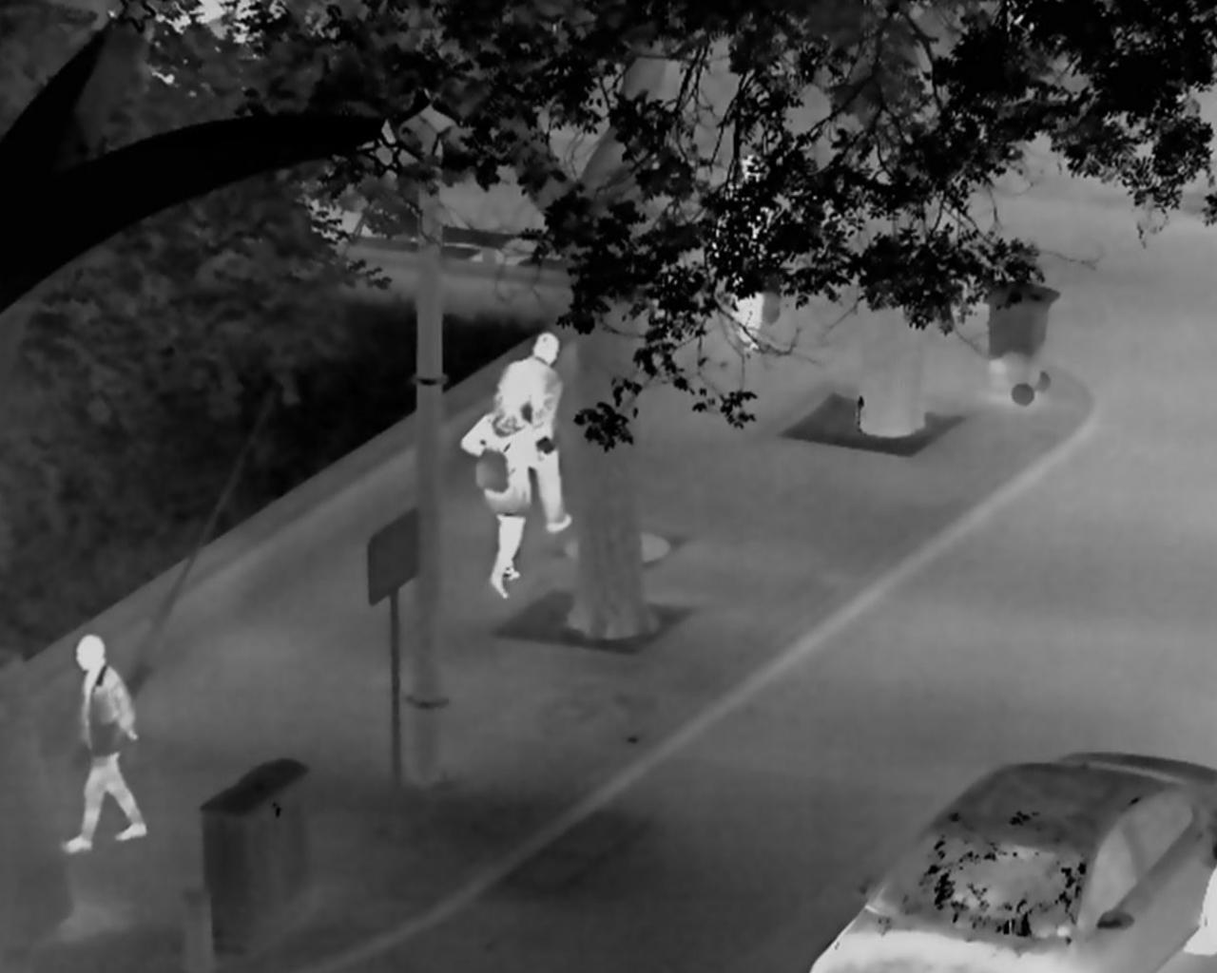person: (60, 633, 147, 853), (494, 331, 574, 534), (459, 383, 533, 600), (712, 154, 766, 351)
